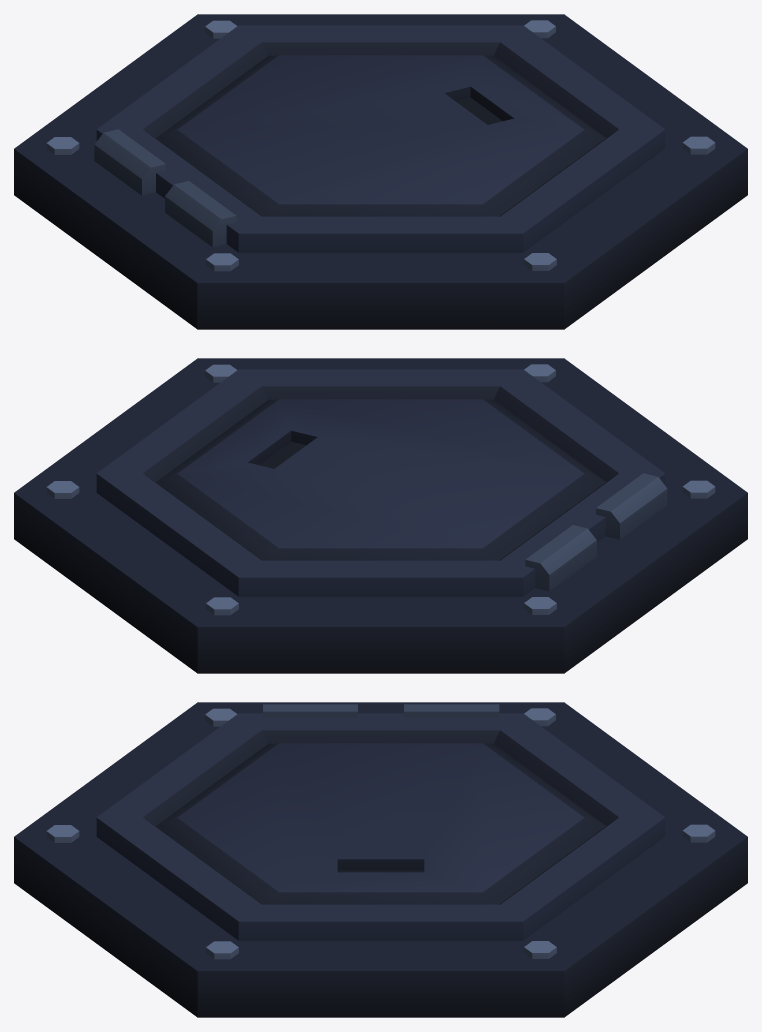
Rendered from Hexagon 04.FBX.
3 renders of one model, top to bottom at view 1: azimuth 30°, elevation 25°; view 2: azimuth 150°, elevation 25°; view 3: azimuth 270°, elevation 25°, orthographic.
Visible parts, largest first — view 1: Hexagon 04; view 2: Hexagon 04; view 3: Hexagon 04.
Boxes of the visible parts, x1=… form: Hexagon 04: x1=14, y1=14, x2=747, y2=329; Hexagon 04: x1=14, y1=358, x2=747, y2=673; Hexagon 04: x1=14, y1=702, x2=747, y2=1017.
Bounding box in the file's own units: 280 × 35.2 × 323.
Materials: 1 (1 with a texture image).
